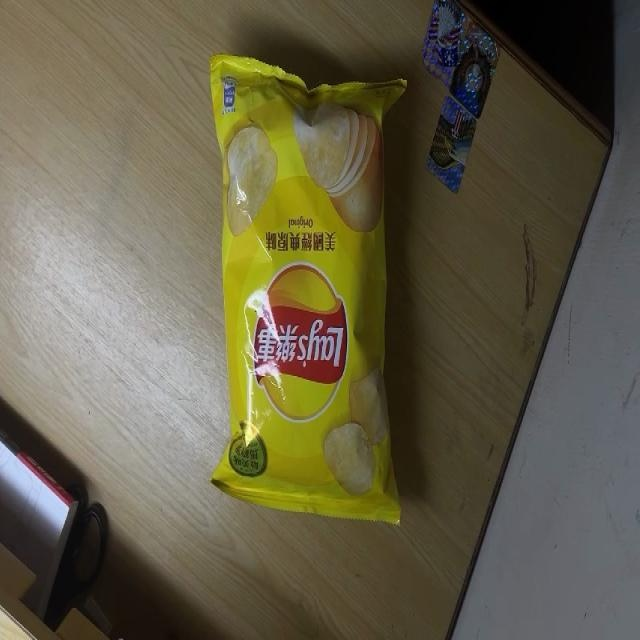Lay-s-original: (209, 50, 407, 526)
